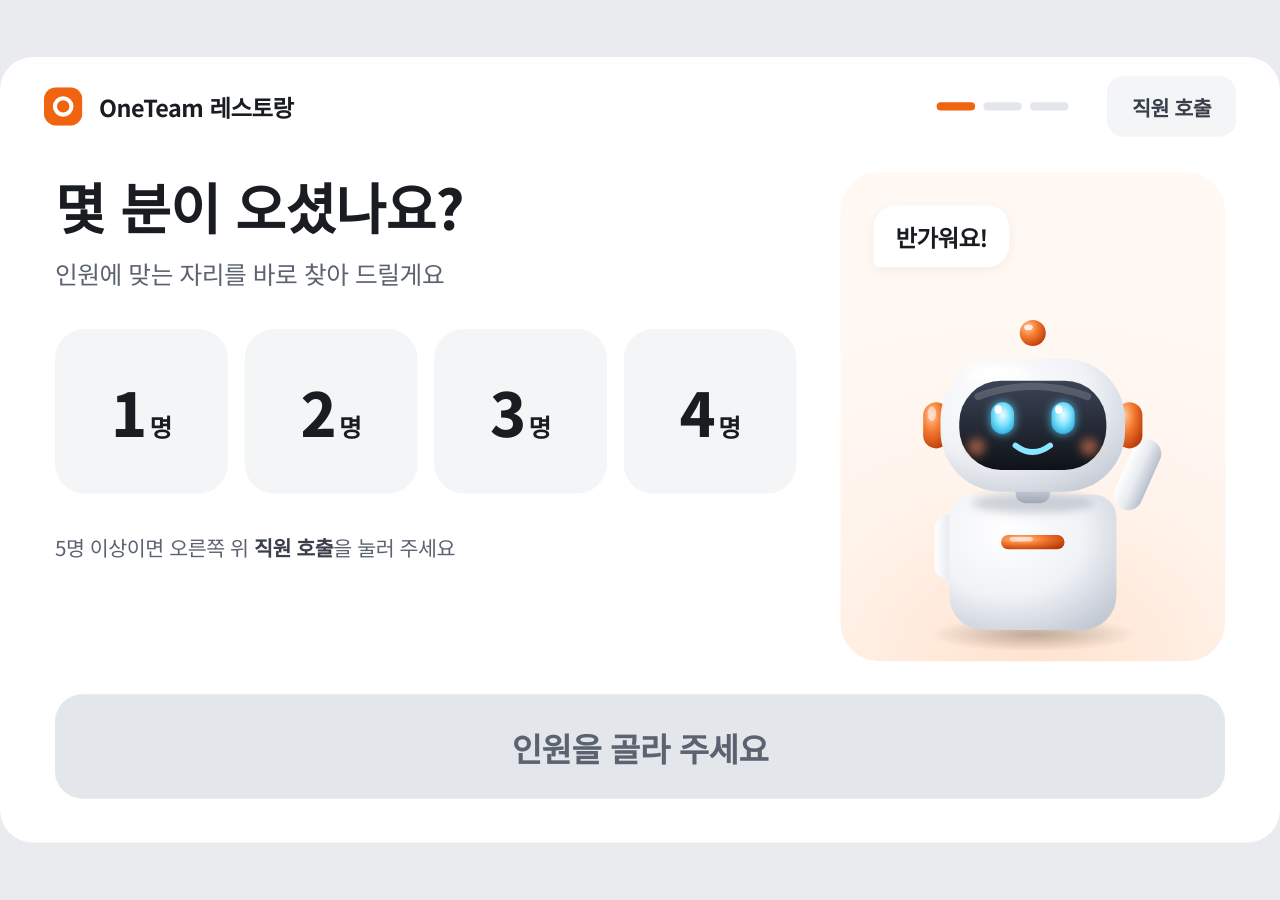
Scenario: 입구 키오스크 흐름 › 접수 요청에 인원과 요청 키를 보내고, 결과 불명이면 같은 키로 다시 보낸다 (WEB-01)
The image size is (1280, 900).
Click the button named "2명". click: [331, 412]
box: left=244, top=329, right=418, bottom=494
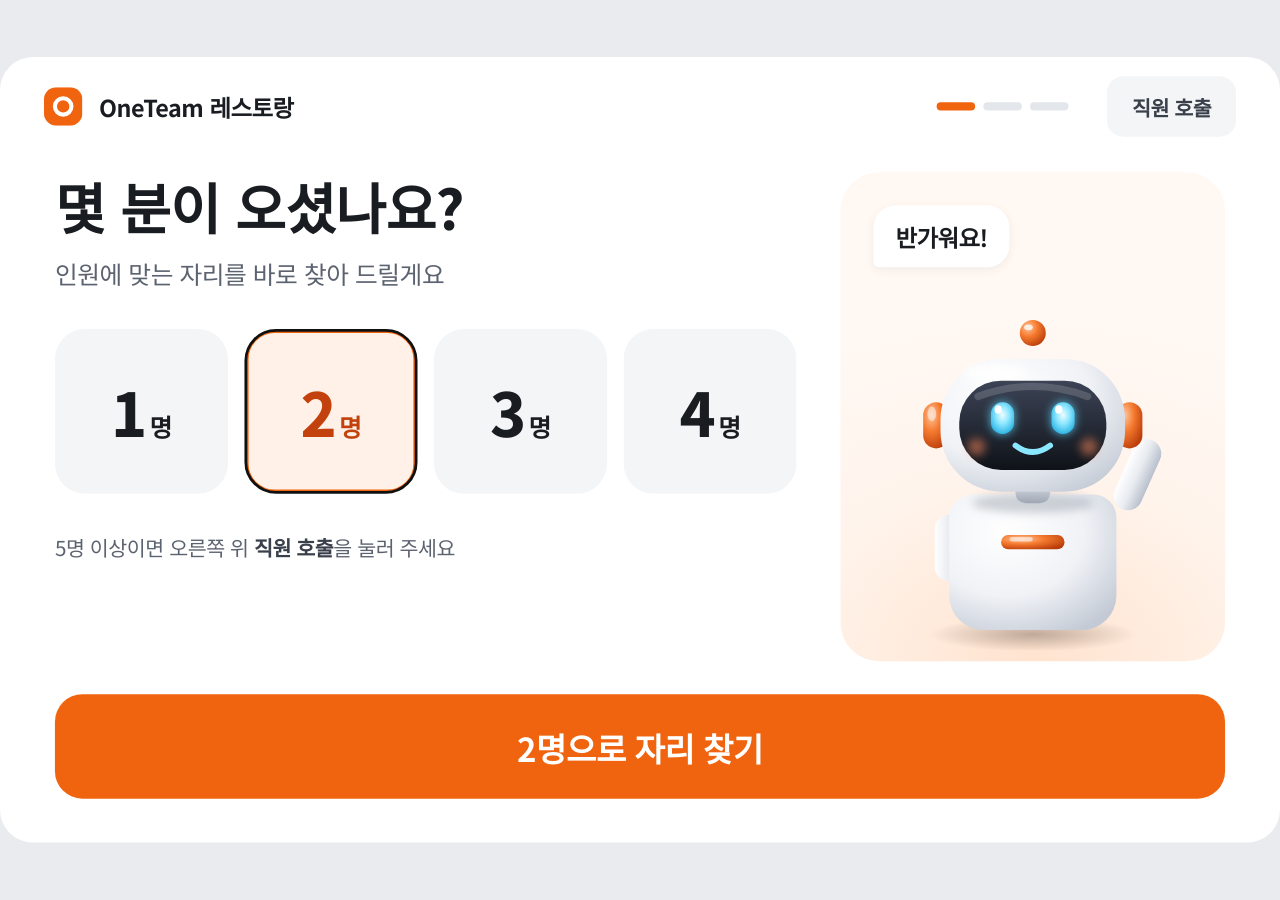
Click the button "2명으로 자리 찾기". click: [640, 747]
box: left=55, top=694, right=1225, bottom=799
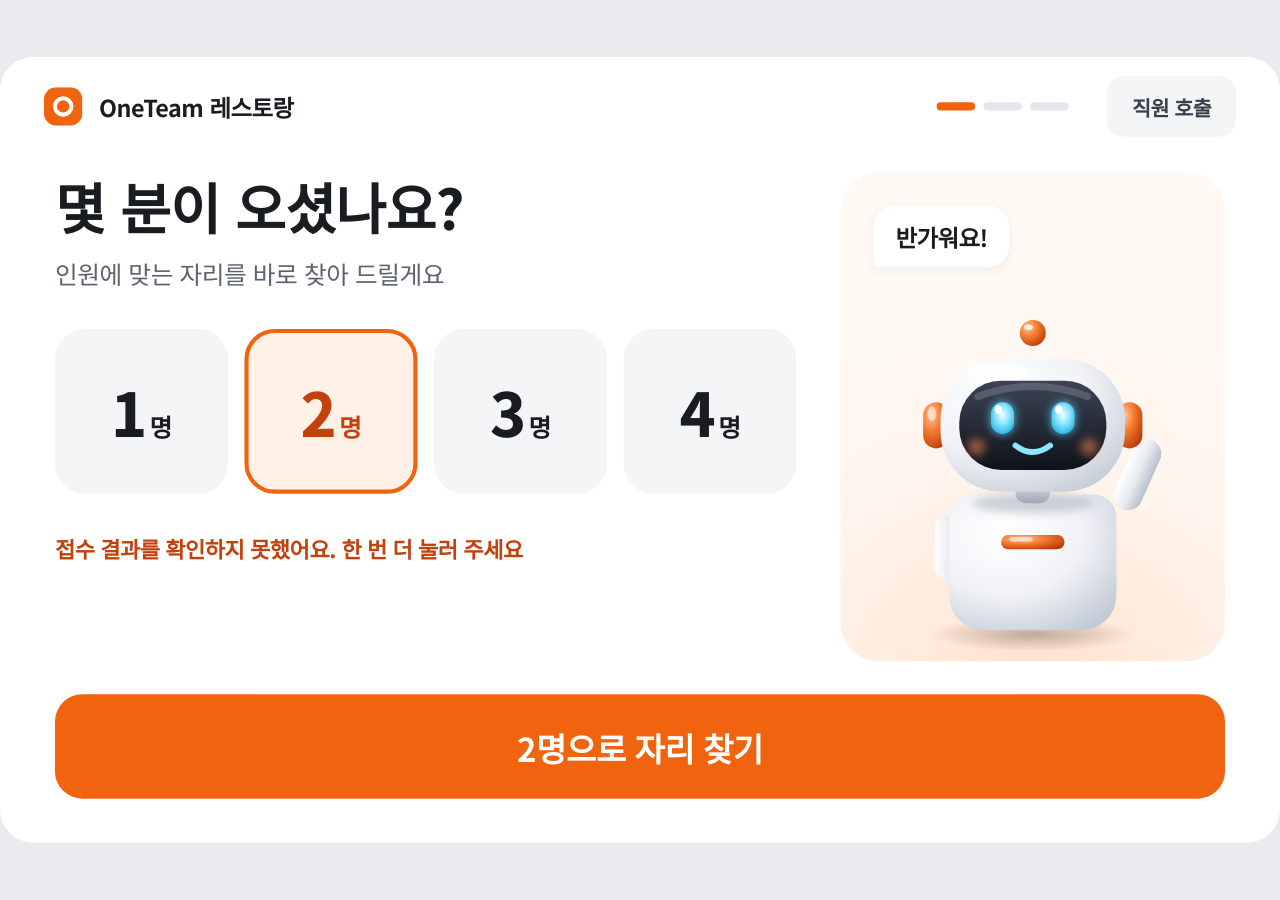
Check: the message shows "한 번 더 눌러 주세요", box left=55, top=532, right=523, bottom=565
Click the button "2명으로 자리 찾기". click: [640, 747]
box: left=55, top=694, right=1225, bottom=799
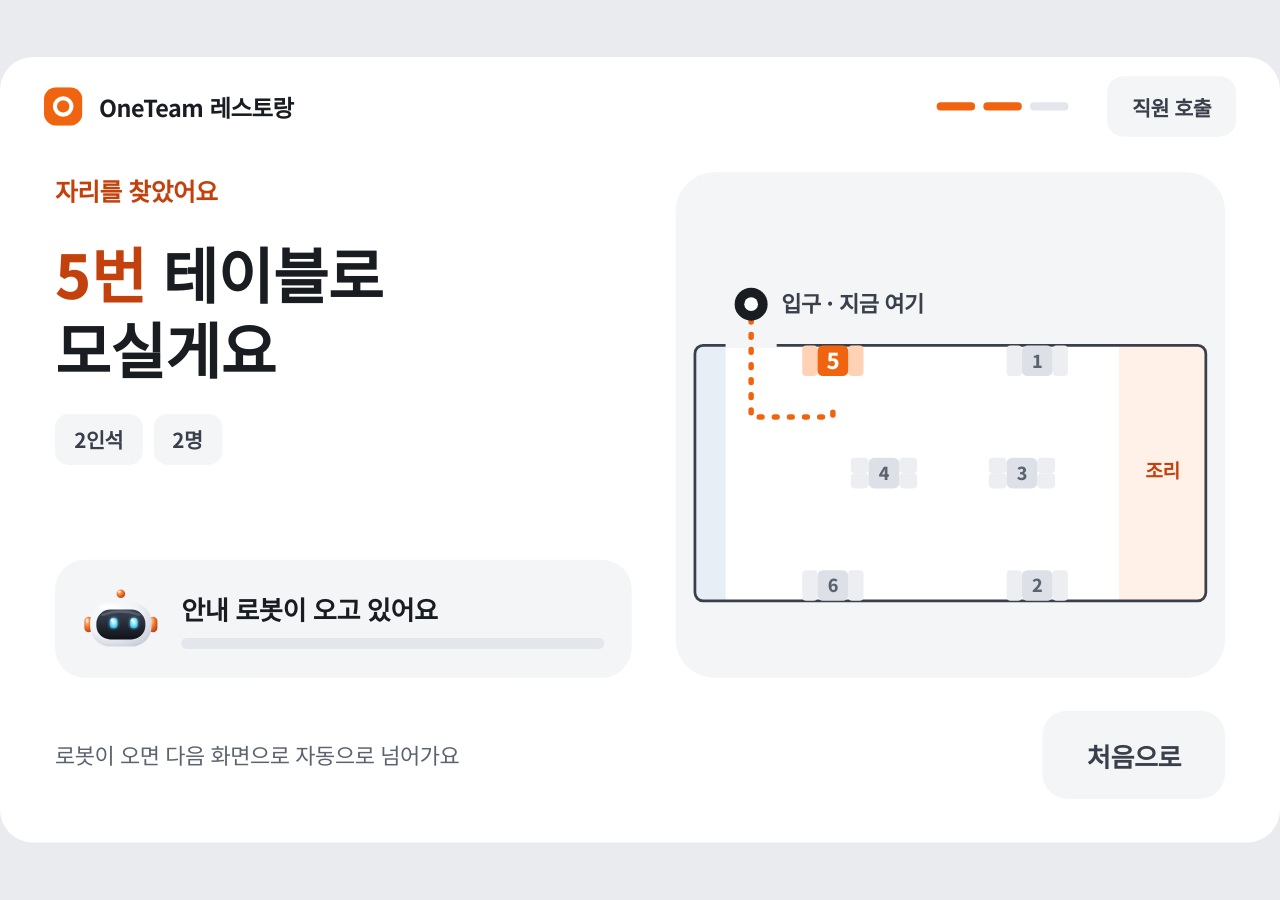
Check: the text "자리를 찾았어요" is shown, box left=55, top=173, right=218, bottom=208
